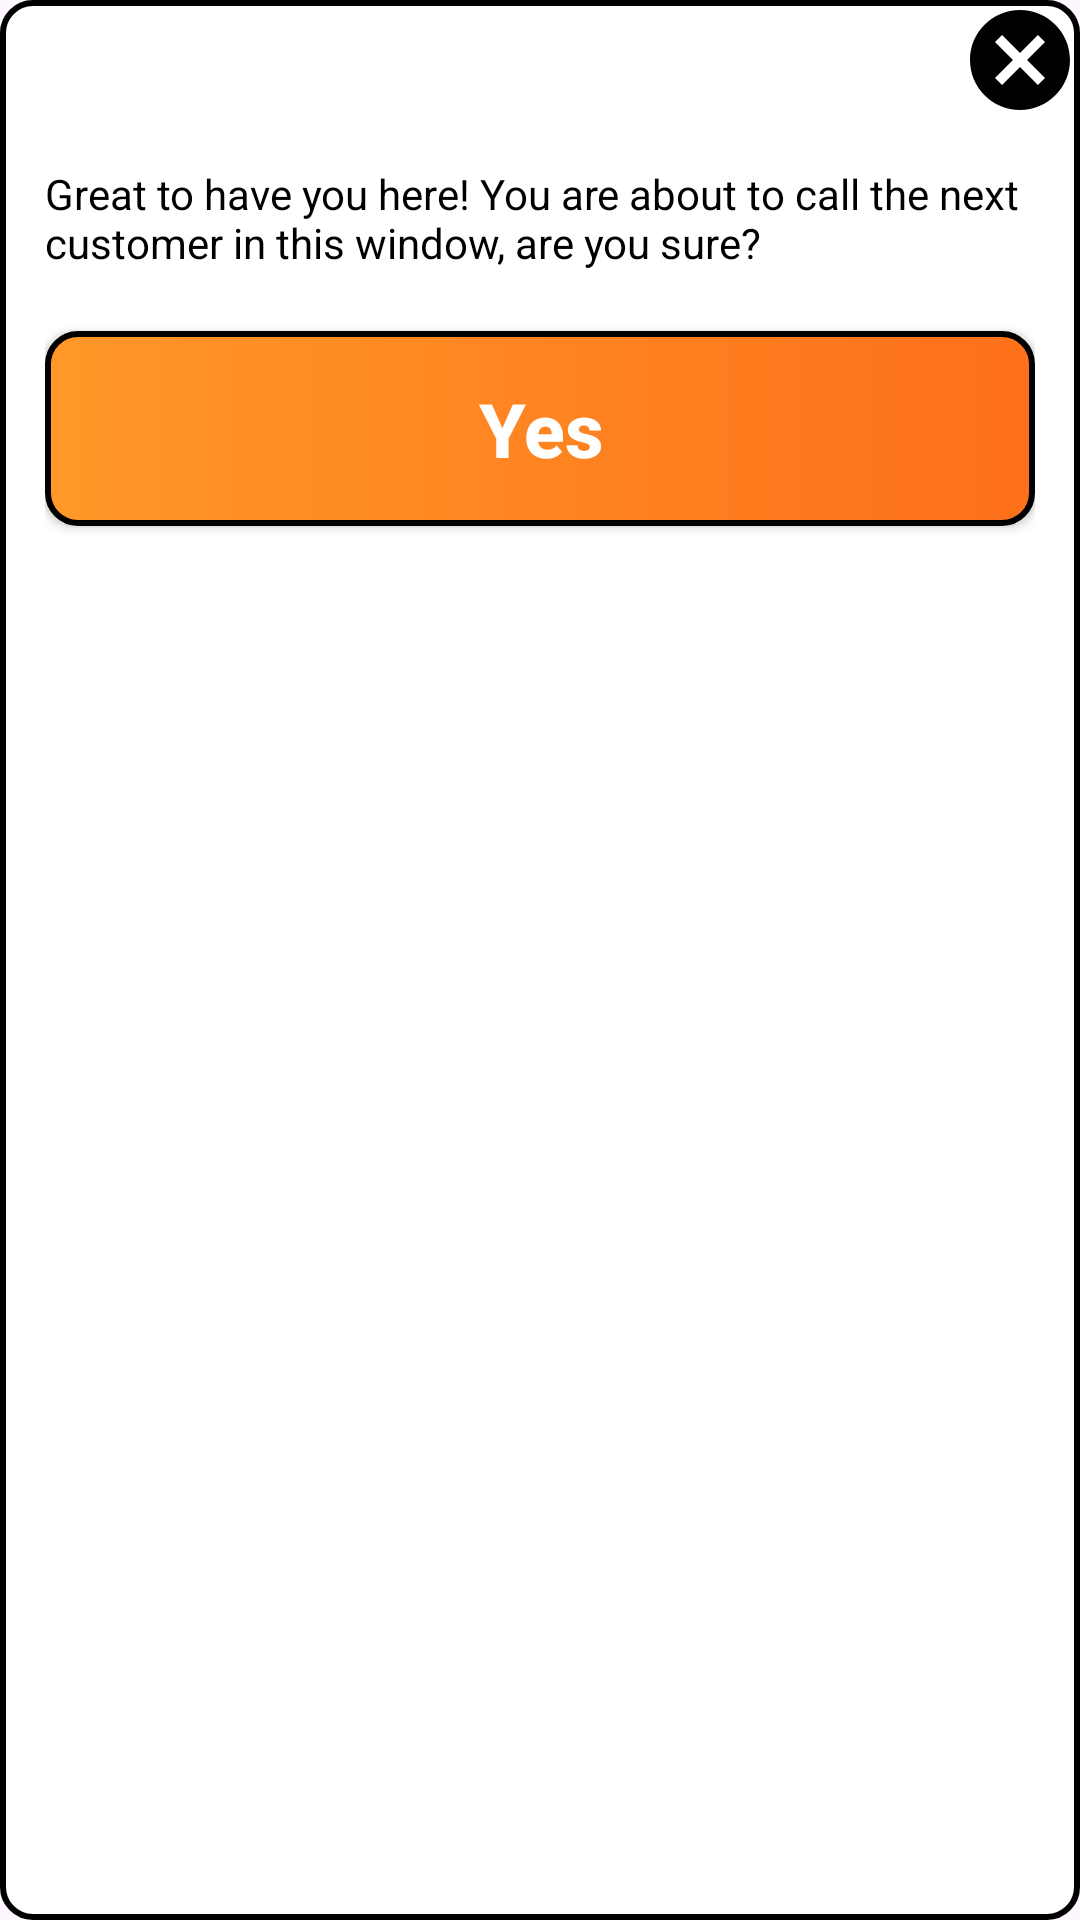

Screen size 1080px×1920px. Icon name, then its center in pixels as [x,y]:
cancel: [1020,60]
